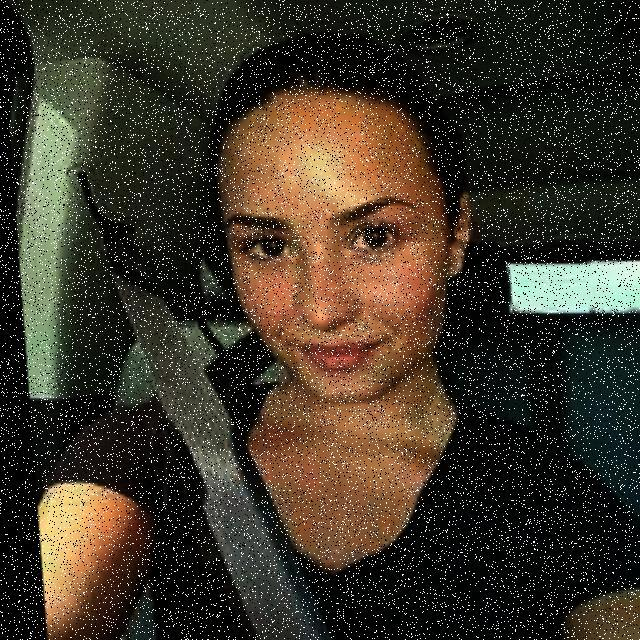seatbelt: (144, 381, 473, 640)
